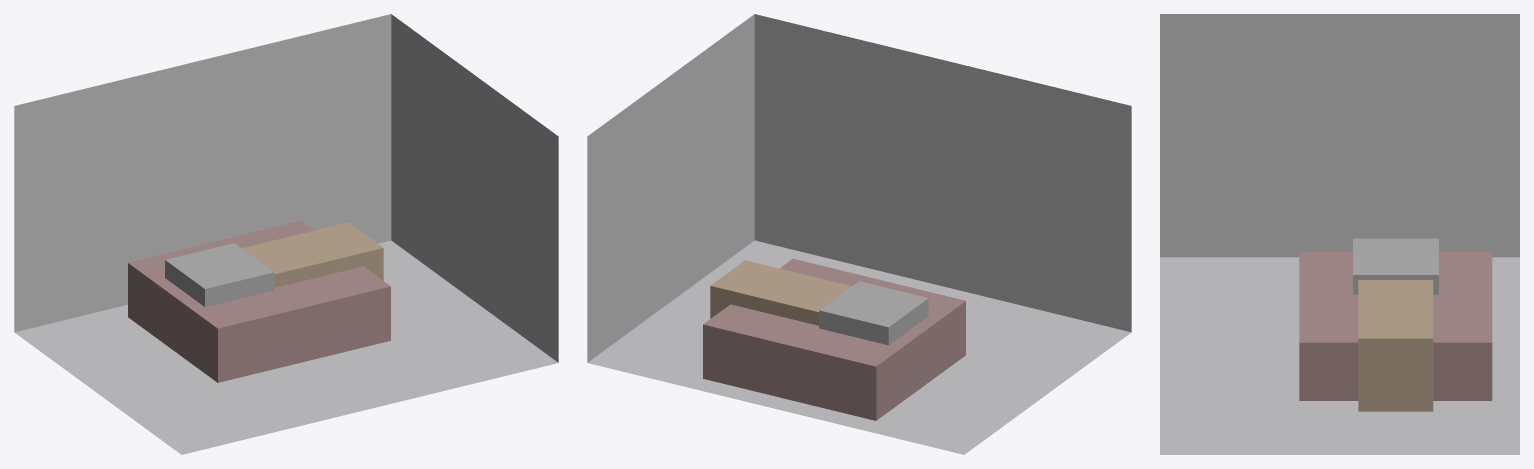
Rendered from current_layout.glb.
3 renders of one model, left to right at view 1: azimuth 30°, elevation 25°; view 2: azimuth 150°, elevation 25°; view 3: azimuth 270°, elevation 25°, orthographic. The views are drawn at different scales.
Parts seen in each view (by area): view 1: room, bed, desk, dustbin; view 2: room, bed, desk, dustbin; view 3: room, bed, desk, dustbin.
Part boxes in pixels (<box>): room: <box>14,14,558,454</box>; bed: <box>128,220,390,382</box>; desk: <box>242,222,383,287</box>; dustbin: <box>165,243,274,307</box>; room: <box>587,14,1131,454</box>; bed: <box>703,258,965,420</box>; desk: <box>710,260,851,325</box>; dustbin: <box>819,281,928,345</box>; room: <box>1160,14,1519,454</box>; bed: <box>1299,251,1492,400</box>; desk: <box>1358,280,1433,411</box>; dustbin: <box>1353,238,1438,294</box>.
Size of the model in its own units: 4.36 by 2.5 by 3.35.
